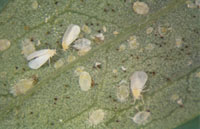whitefly: (27, 47, 56, 70), (130, 70, 148, 105), (61, 24, 80, 51)
